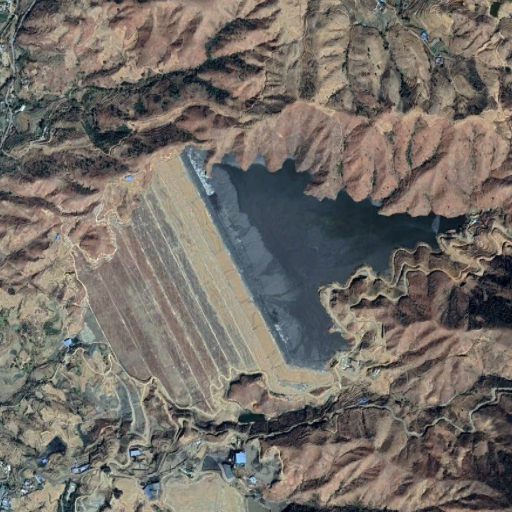tp: (77, 152, 473, 421)
